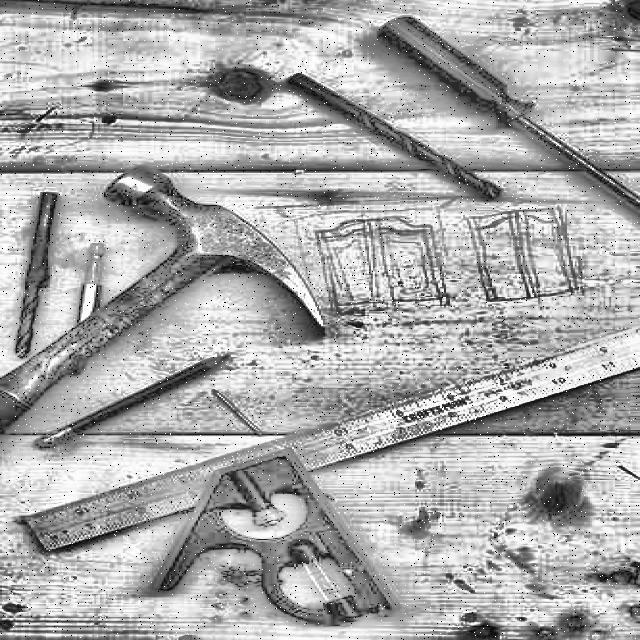hammer: (0, 162, 328, 442)
